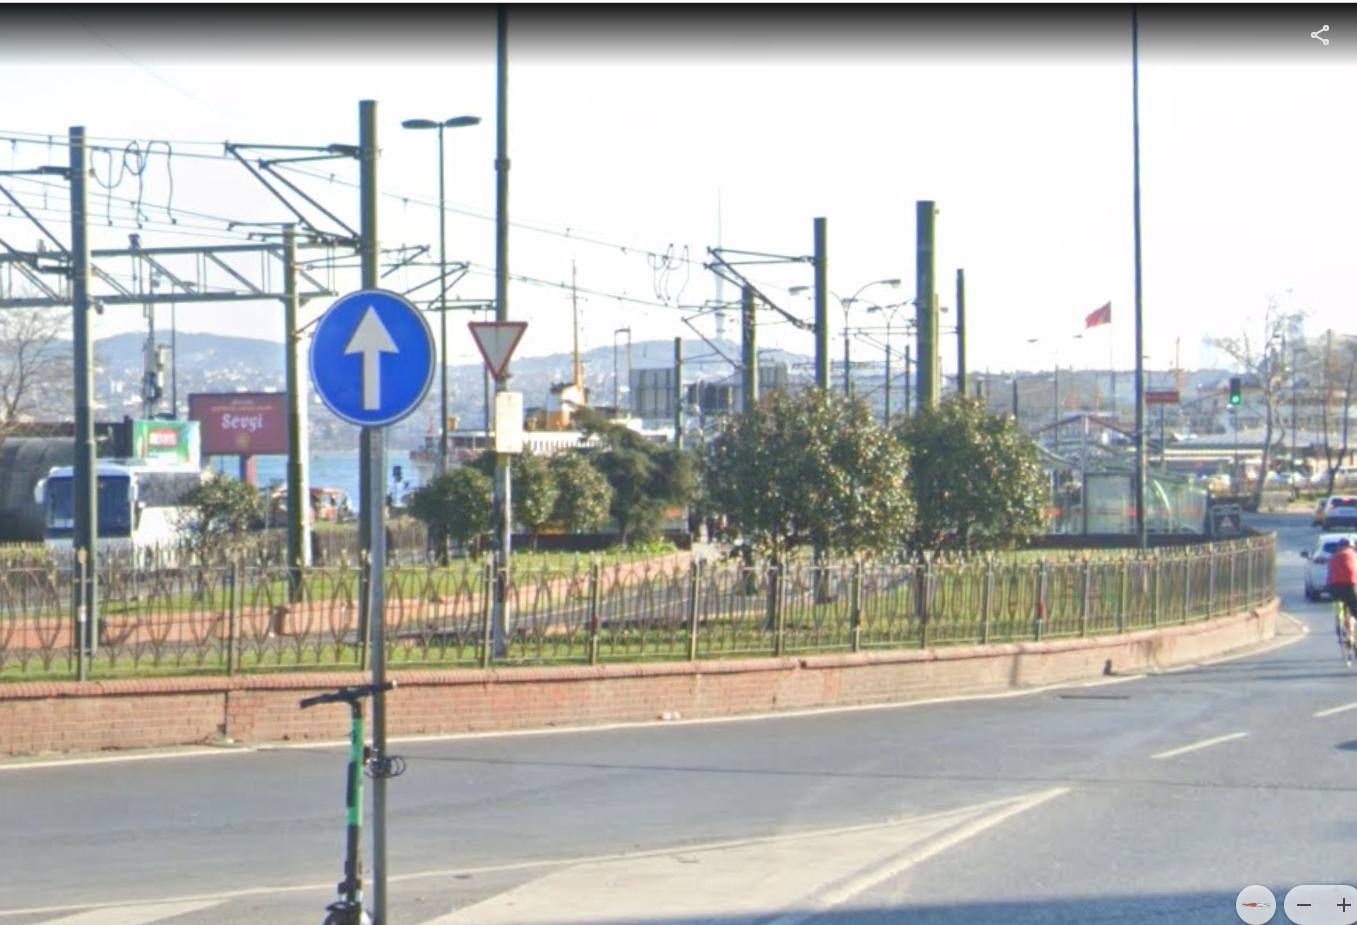forward: (322, 291, 426, 417)
